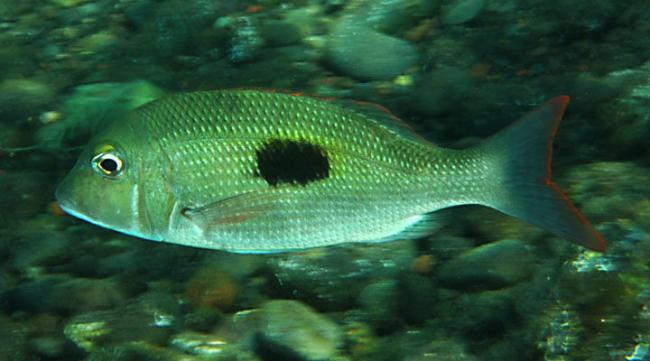fish: (54, 86, 608, 257)
